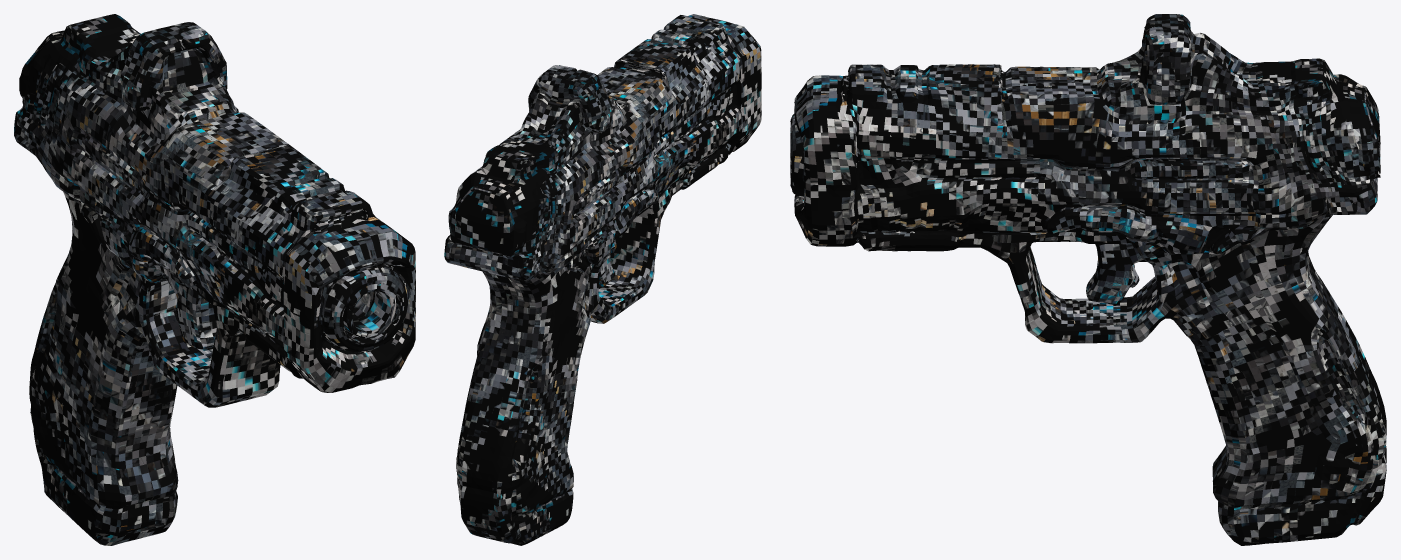
Rendered from Sci-fi_Pistol_Low50k.fbx.
The picture shows the model from 3 angles, left to right: view 1: azimuth 30°, elevation 25°; view 2: azimuth 150°, elevation 25°; view 3: azimuth 270°, elevation 25°; orthographic projection. The views are drawn at different scales.
Visible parts, largest first — view 1: Sci-fi_Pistol_Low; view 2: Sci-fi_Pistol_Low; view 3: Sci-fi_Pistol_Low.
Boxes of the visible parts, left/top/right/bottom form: Sci-fi_Pistol_Low: left=14, top=14, right=415, bottom=545; Sci-fi_Pistol_Low: left=444, top=14, right=761, bottom=545; Sci-fi_Pistol_Low: left=790, top=14, right=1386, bottom=545.
Size of the model in its own units: 21.15 by 93.65 by 99.72.
1 material, 1 textured.
